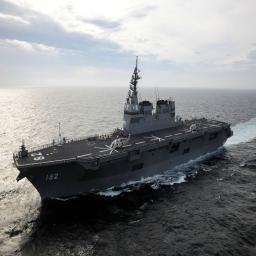Portanaves: (13, 55, 236, 210)
